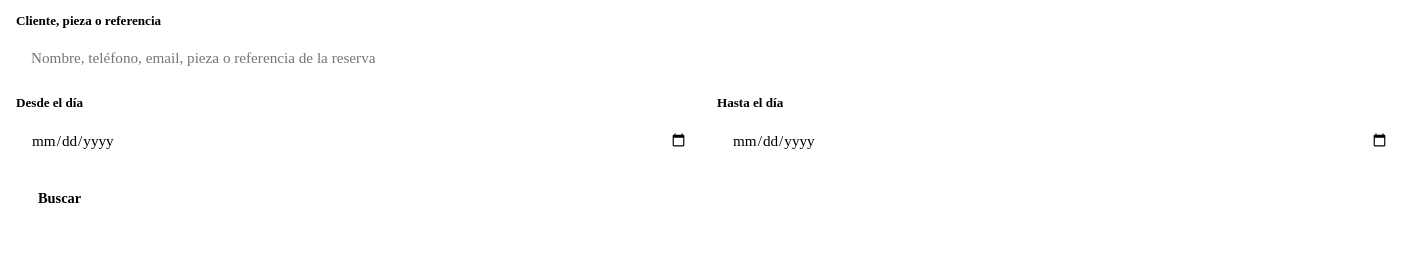
it: BuscadorReservas — buscar › la fecha final anterior a la inicial no se manda, y se dice por qué
This screenshot has width=1421, height=265.
In the date field labelled "Desde el día": (360, 141) [16, 117, 703, 165], type "2026-11-09"
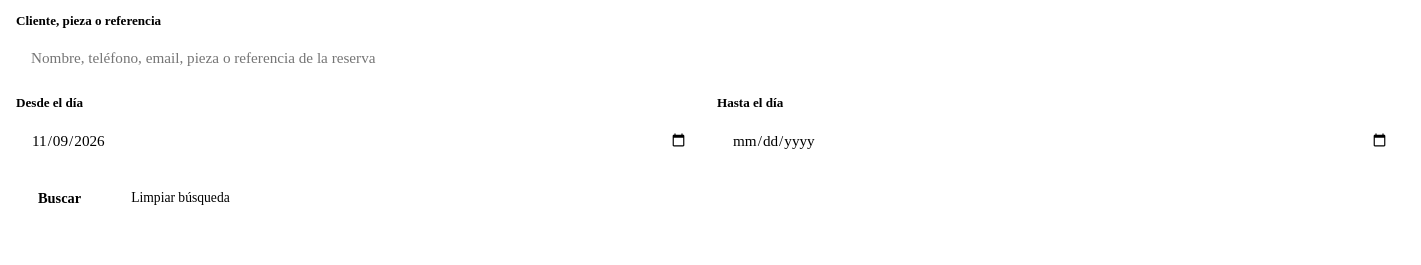
In the date field labelled "Hasta el día": (1060, 141) [717, 117, 1404, 165], type "2026-11-02"
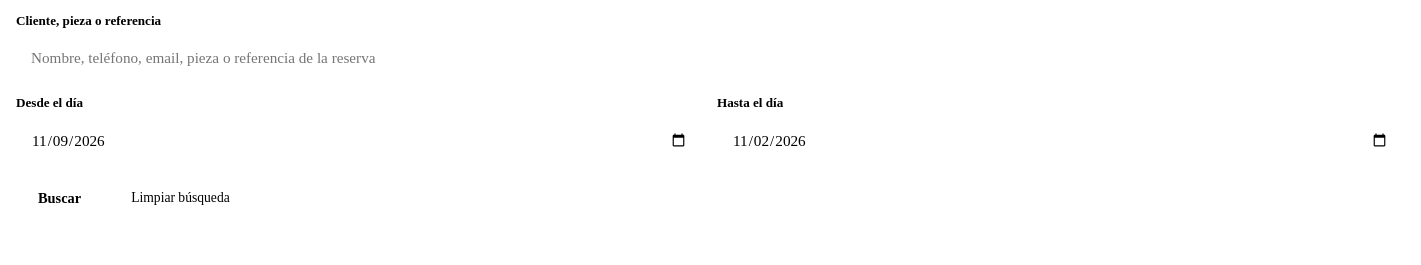
Click the button "Buscar": (60, 198) [16, 179, 103, 218]
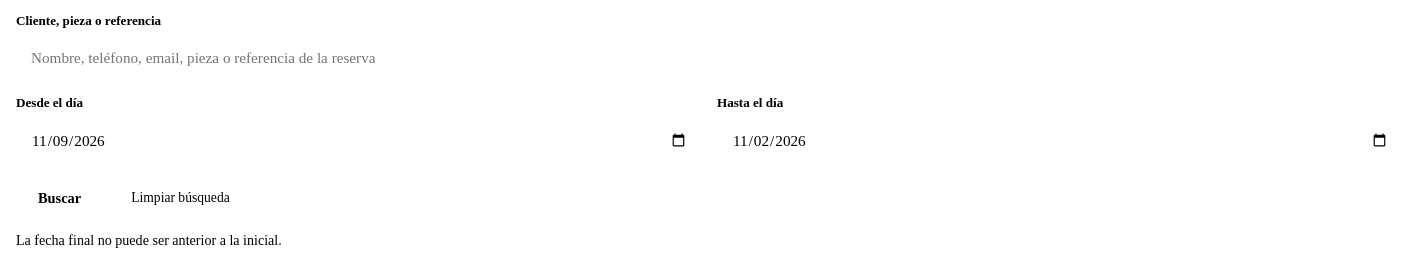
Check: the message reads "La fecha final no puede ser anterior a la inicial.", box [16, 232, 282, 248]
